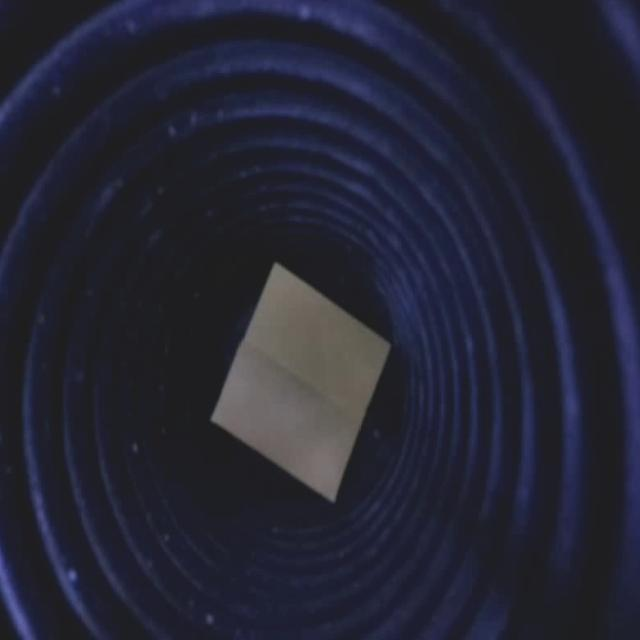obstacles: (211, 255, 394, 497)
